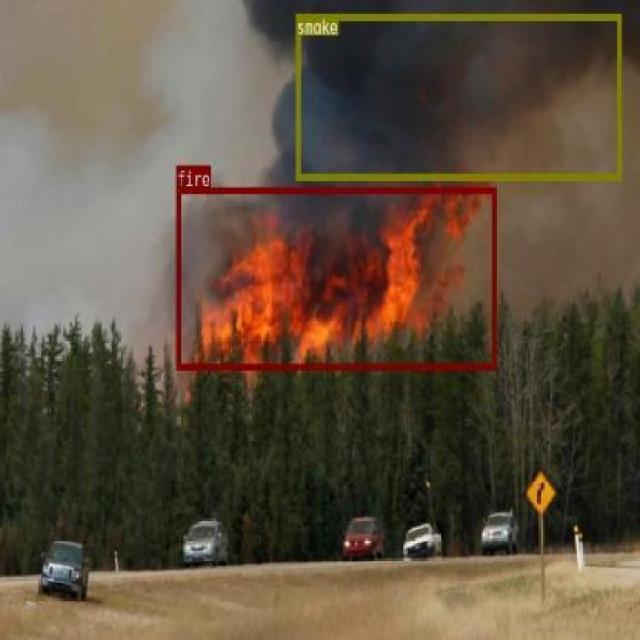Fire: (167, 207, 488, 358)
Smoke: (137, 0, 630, 327)
